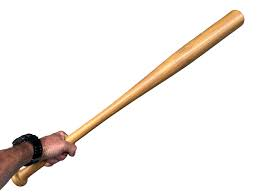baseball bat: (10, 9, 245, 187)
